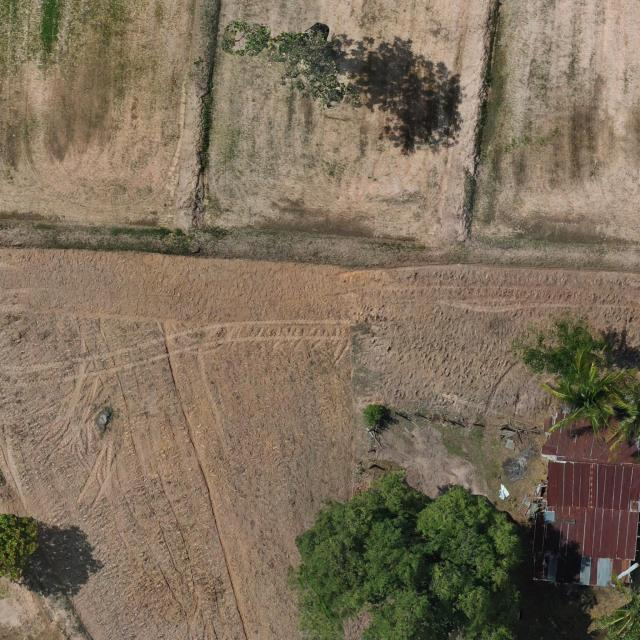Tree: (293, 471, 523, 640), (220, 19, 364, 110), (546, 346, 632, 436), (510, 311, 600, 375), (586, 569, 640, 640), (0, 511, 42, 585)
